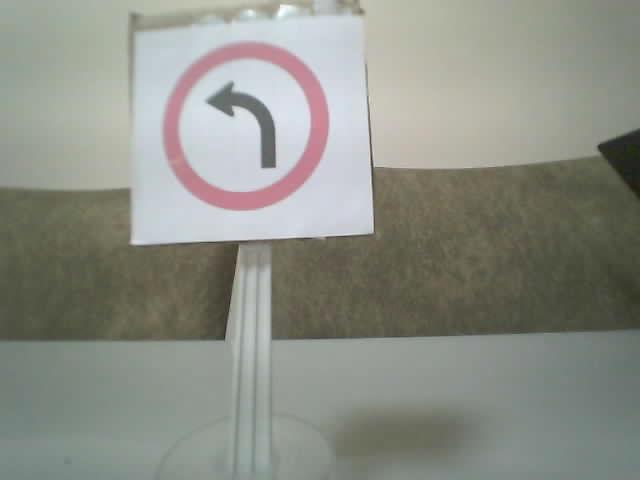R-25a_esquerda: (161, 40, 329, 210)
